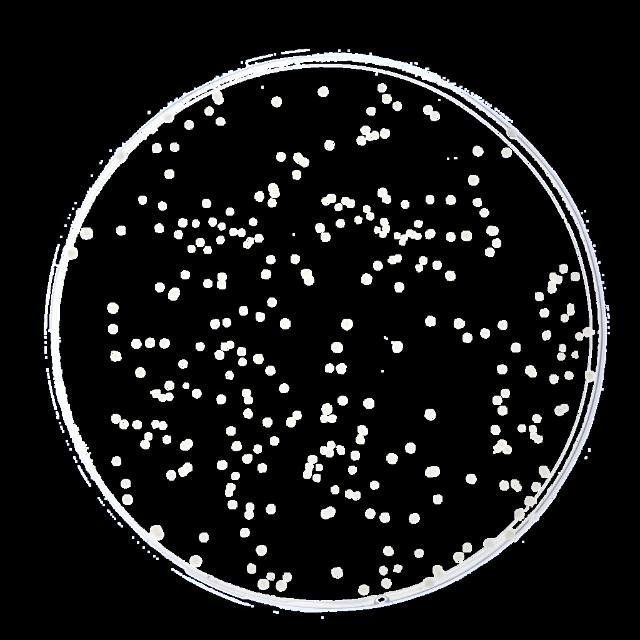colony: (148, 524, 166, 542), (210, 88, 227, 105), (360, 397, 378, 413), (326, 506, 344, 522), (384, 449, 400, 466), (178, 461, 195, 477), (182, 117, 198, 133), (150, 142, 166, 158), (64, 246, 80, 262), (166, 286, 182, 302), (484, 222, 500, 238), (564, 301, 578, 319), (430, 565, 448, 579), (328, 566, 346, 580), (315, 508, 329, 526), (404, 228, 424, 240), (402, 439, 416, 456), (270, 95, 284, 111), (106, 300, 120, 316), (268, 182, 282, 198), (540, 328, 554, 344), (356, 422, 372, 436), (275, 578, 289, 594), (334, 394, 350, 408), (264, 364, 280, 378), (180, 436, 194, 452), (423, 466, 441, 478), (215, 280, 229, 294), (260, 267, 274, 281), (303, 274, 317, 288), (582, 324, 596, 338), (524, 364, 538, 378), (390, 340, 404, 354), (424, 408, 438, 422), (464, 472, 478, 486), (451, 550, 465, 564), (212, 348, 226, 362), (78, 228, 94, 240), (378, 127, 394, 139), (420, 576, 436, 588), (364, 506, 376, 522), (258, 578, 270, 594), (321, 400, 333, 416), (107, 350, 123, 362), (452, 316, 466, 329), (500, 146, 512, 160), (424, 228, 436, 242), (444, 268, 456, 282), (546, 278, 560, 290), (570, 348, 582, 362), (408, 512, 420, 526), (503, 526, 515, 540), (357, 583, 369, 597), (378, 512, 392, 524), (369, 479, 381, 493), (280, 572, 294, 584), (264, 502, 276, 516), (335, 363, 349, 375), (330, 342, 344, 354), (252, 352, 264, 366), (268, 435, 280, 449), (242, 452, 254, 466), (226, 424, 238, 438), (190, 554, 202, 568), (164, 470, 178, 482), (132, 418, 144, 432), (132, 366, 146, 378), (158, 338, 172, 350), (178, 358, 190, 372), (394, 280, 404, 296), (162, 114, 175, 126), (137, 195, 149, 208), (484, 247, 496, 260), (255, 544, 268, 556), (216, 116, 228, 128), (170, 142, 182, 154), (116, 224, 128, 236), (153, 222, 165, 234), (172, 228, 184, 240), (176, 217, 188, 229), (154, 282, 166, 294), (240, 240, 252, 252), (289, 252, 301, 264), (472, 145, 484, 157), (468, 175, 480, 187), (314, 222, 326, 234), (372, 259, 384, 271), (399, 198, 411, 210), (413, 262, 425, 274), (430, 260, 442, 272), (460, 230, 472, 242), (558, 313, 570, 325), (546, 286, 558, 298), (497, 405, 509, 417), (424, 315, 436, 327), (483, 538, 495, 550), (346, 464, 358, 476), (246, 562, 258, 574), (238, 527, 250, 539), (278, 383, 290, 395), (254, 311, 266, 323), (261, 417, 273, 429), (257, 462, 269, 474), (231, 440, 243, 452), (216, 459, 228, 471), (121, 494, 133, 506), (121, 478, 133, 490), (110, 456, 122, 468), (118, 419, 130, 431), (144, 338, 156, 350), (107, 323, 119, 335), (203, 104, 213, 118), (504, 130, 518, 140), (537, 308, 551, 318), (463, 540, 473, 554), (354, 435, 368, 445), (280, 317, 290, 331), (228, 498, 238, 512), (163, 168, 174, 180), (253, 190, 264, 202), (377, 82, 388, 94), (377, 186, 388, 198), (538, 467, 550, 478), (511, 480, 522, 492), (491, 424, 502, 436), (492, 395, 503, 407), (432, 494, 443, 506), (381, 578, 392, 590), (242, 408, 254, 419), (143, 431, 155, 442), (164, 381, 176, 392), (157, 200, 167, 212), (202, 197, 212, 209), (225, 206, 235, 218), (207, 216, 217, 228), (216, 234, 226, 246), (194, 238, 206, 248), (180, 270, 192, 280), (202, 277, 212, 289), (217, 270, 227, 282), (228, 226, 238, 238), (236, 227, 248, 237), (246, 218, 258, 228), (265, 255, 277, 265), (290, 170, 302, 180), (292, 150, 302, 162), (299, 157, 309, 169), (317, 87, 329, 97), (324, 140, 336, 150), (368, 130, 380, 140), (366, 106, 376, 118), (421, 105, 433, 115), (430, 112, 442, 122), (344, 198, 356, 208), (382, 194, 392, 206), (334, 219, 346, 229), (319, 232, 331, 242), (300, 268, 312, 278), (266, 297, 278, 307), (362, 274, 372, 286), (393, 252, 403, 264), (378, 218, 390, 228), (424, 194, 434, 206), (446, 194, 456, 206), (392, 230, 402, 242), (418, 254, 428, 266), (446, 230, 456, 242), (480, 206, 490, 218), (491, 238, 503, 248), (559, 262, 569, 274), (571, 271, 581, 283), (534, 291, 544, 303), (556, 274, 566, 286), (574, 332, 584, 344), (556, 352, 566, 364), (586, 370, 596, 382), (554, 406, 564, 418), (514, 509, 524, 521), (492, 444, 502, 456), (500, 388, 512, 398), (414, 548, 424, 560), (383, 546, 395, 556), (377, 566, 389, 576), (350, 449, 360, 461), (331, 484, 341, 496), (264, 572, 276, 582), (244, 502, 256, 512), (302, 470, 314, 480), (324, 448, 334, 460), (328, 414, 338, 426), (286, 417, 296, 429), (342, 319, 352, 331), (238, 306, 250, 316), (210, 318, 220, 330), (236, 346, 248, 356), (160, 434, 172, 444), (139, 439, 151, 449), (158, 419, 168, 431), (109, 414, 121, 424), (132, 337, 142, 349), (194, 342, 206, 352), (306, 455, 320, 463), (392, 101, 402, 112), (352, 215, 363, 225), (524, 497, 534, 508), (498, 480, 509, 490), (510, 342, 520, 353), (497, 320, 508, 330), (480, 328, 490, 339), (462, 332, 472, 343), (392, 564, 403, 574), (345, 488, 355, 499), (292, 408, 302, 419), (224, 371, 234, 382), (216, 394, 227, 404), (556, 343, 568, 352), (353, 491, 362, 503), (225, 483, 238, 491), (191, 218, 201, 228), (216, 222, 226, 232), (203, 245, 213, 255), (268, 199, 278, 209), (276, 152, 286, 162), (356, 136, 366, 146), (360, 125, 370, 135), (382, 94, 392, 104), (321, 196, 331, 206), (326, 192, 336, 202), (334, 202, 344, 212), (362, 203, 372, 213), (378, 230, 388, 240), (473, 198, 483, 208), (548, 272, 558, 282), (564, 371, 574, 381), (560, 404, 570, 414), (532, 414, 542, 424), (534, 435, 544, 445), (497, 364, 507, 374), (244, 511, 254, 521), (312, 474, 322, 484), (336, 445, 346, 455), (326, 439, 336, 449), (319, 445, 329, 455), (324, 364, 334, 374), (222, 318, 232, 328), (220, 341, 230, 351), (238, 358, 248, 368), (240, 387, 250, 397), (252, 444, 262, 454), (224, 489, 234, 499), (199, 533, 209, 543), (192, 389, 202, 399), (398, 233, 410, 241), (550, 374, 558, 386), (242, 396, 254, 404), (187, 244, 196, 254), (255, 234, 265, 243), (398, 239, 407, 249), (503, 446, 512, 456), (498, 439, 508, 448), (150, 389, 160, 398), (412, 220, 423, 228), (366, 132, 374, 142), (340, 195, 350, 203), (366, 212, 374, 222), (388, 255, 396, 265), (382, 225, 392, 233), (530, 431, 538, 441), (304, 462, 314, 470), (320, 414, 328, 424), (228, 340, 236, 350), (150, 420, 158, 430), (166, 392, 174, 402), (158, 392, 166, 402), (316, 463, 324, 472), (232, 472, 240, 481), (246, 237, 254, 245), (373, 226, 381, 234), (528, 425, 536, 433), (182, 381, 190, 389), (532, 484, 542, 490)
